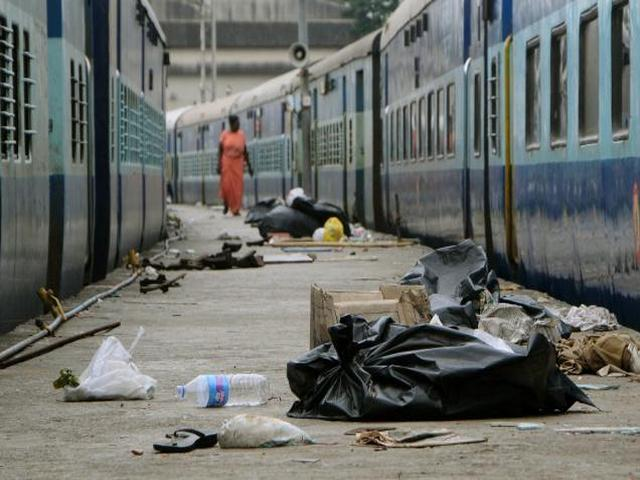garbage: (326, 287, 587, 395)
